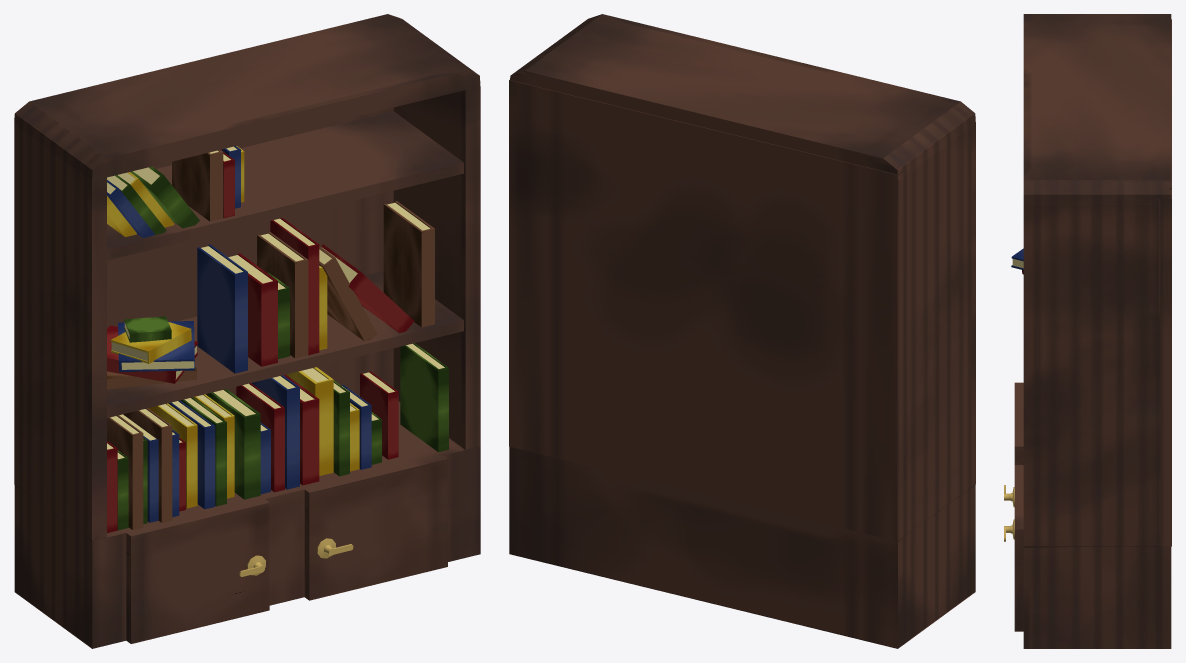
File: Book shelf.glb
The picture shows the model from 3 angles, left to right: view 1: azimuth 30°, elevation 25°; view 2: azimuth 150°, elevation 25°; view 3: azimuth 270°, elevation 25°; orthographic projection. The views are drawn at different scales.
Visible parts, largest first — view 1: Cube, Cube.004, Cube.001, Cube.035, Cube.041, Cube.015, Cube.039, Cube.037, Cube.013, Cube.050, Cube.040, Cube.003 (+32 smaller); view 2: Cube; view 3: Cube, Cylinder.
Part boxes in pixels (x1=…): Cube: x1=14, y1=14, x2=480, y2=648; Cube.004: x1=107, y1=111, x2=463, y2=260; Cube.001: x1=107, y1=271, x2=463, y2=417; Cube.035: x1=197, y1=244, x2=247, y2=373; Cube.041: x1=383, y1=201, x2=434, y2=327; Cube.015: x1=400, y1=343, x2=448, y2=452; Cube.039: x1=257, y1=232, x2=308, y2=358; Cube.037: x1=228, y1=253, x2=277, y2=366; Cube.013: x1=206, y1=389, x2=260, y2=499; Cube.050: x1=172, y1=150, x2=223, y2=221; Cube.040: x1=319, y1=246, x2=377, y2=341; Cube.003: x1=107, y1=415, x2=143, y2=529; Cube: x1=509, y1=14, x2=975, y2=648; Cube: x1=1014, y1=14, x2=1171, y2=648; Cylinder: x1=1004, y1=485, x2=1014, y2=541.
Size of the model in its own units: 0.906 by 1.08 by 0.357.
9 materials, 8 textured.
